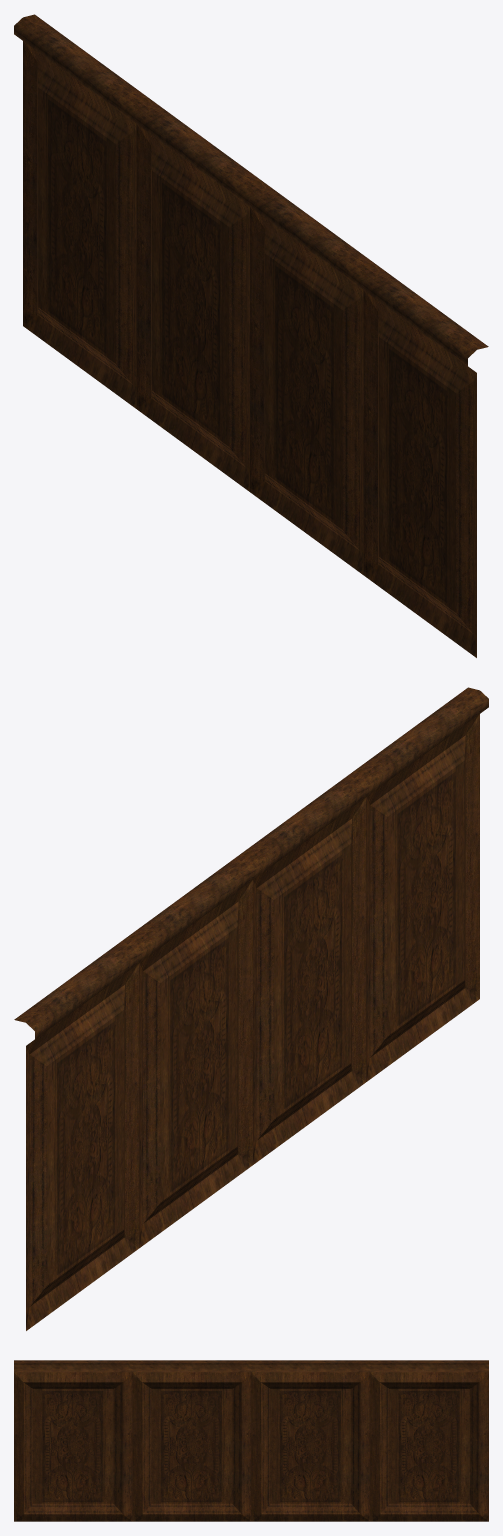
File: wood_panneling.DAE
The picture shows the model from 3 angles, top to bottom: view 1: azimuth 30°, elevation 25°; view 2: azimuth 150°, elevation 25°; view 3: azimuth 270°, elevation 25°; orthographic projection. The views are drawn at different scales.
Parts seen in each view (by area): view 1: Box006; view 2: Box006; view 3: Box006.
Part boxes in pixels (left/top/right/bottom): Box006: left=14, top=14, right=488, bottom=657; Box006: left=14, top=687, right=488, bottom=1330; Box006: left=14, top=1360, right=488, bottom=1521.
Size of the model in its own units: 0.1061 by 1.5 by 4.
